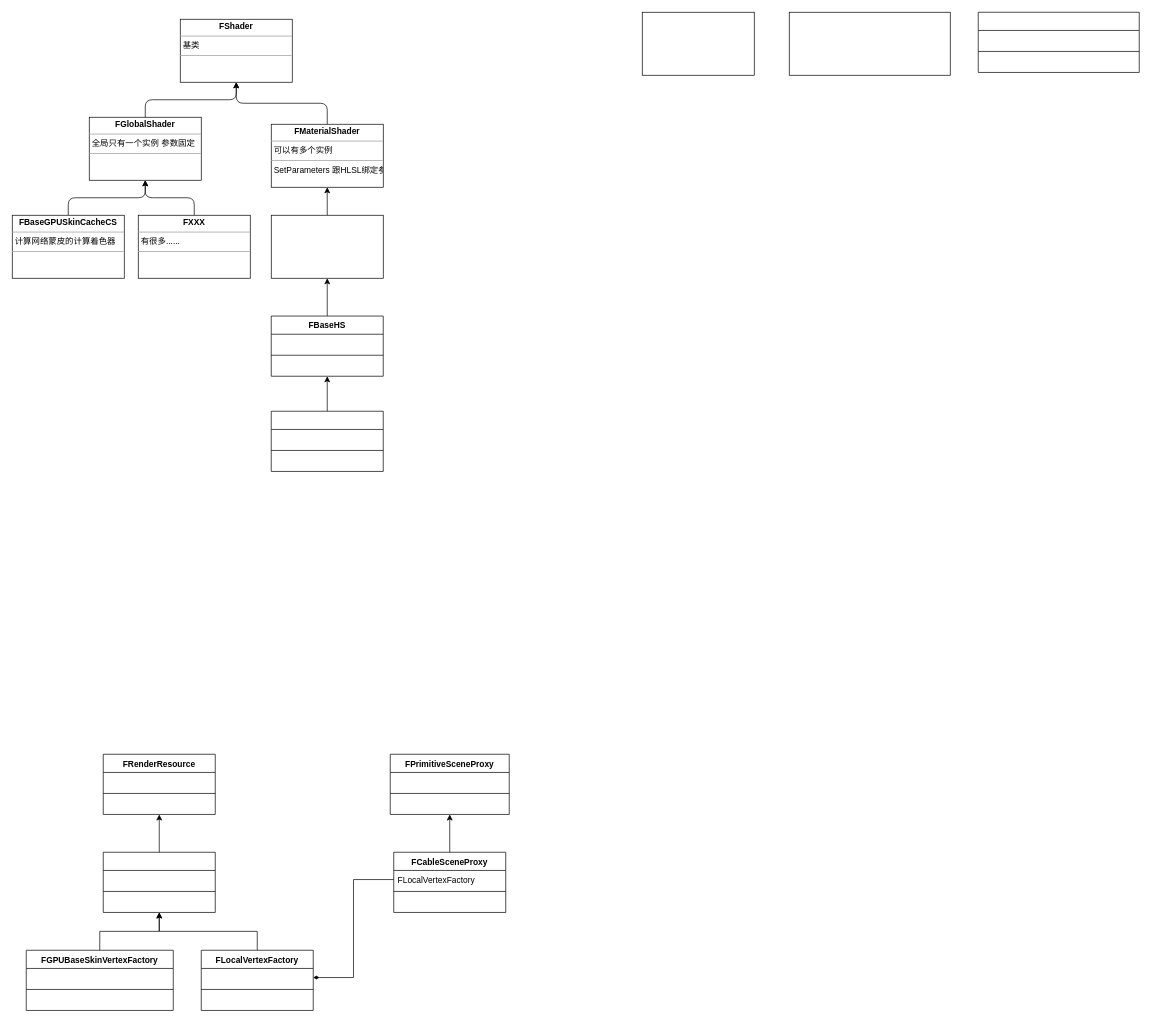
Some shapes in this 1152 by 1025 pixel diagram are drawn without their labels. The box of each missing label's shape, as (x1, y1, x2, y2) in pixels:
FDepthOnlyHS: (271, 411, 383, 471)
FMeshMaterialShader 可以有多个实例: (271, 215, 383, 278)
FShaderParameter 只能binding float1 2 3 4这些: (642, 12, 754, 75)
FShaderResourceParameter resourece binding(Textures or sampler): (789, 12, 950, 75)
FShaderUniformBufferParameter: (978, 12, 1139, 72)
FVertexFactory: (103, 852, 215, 912)
